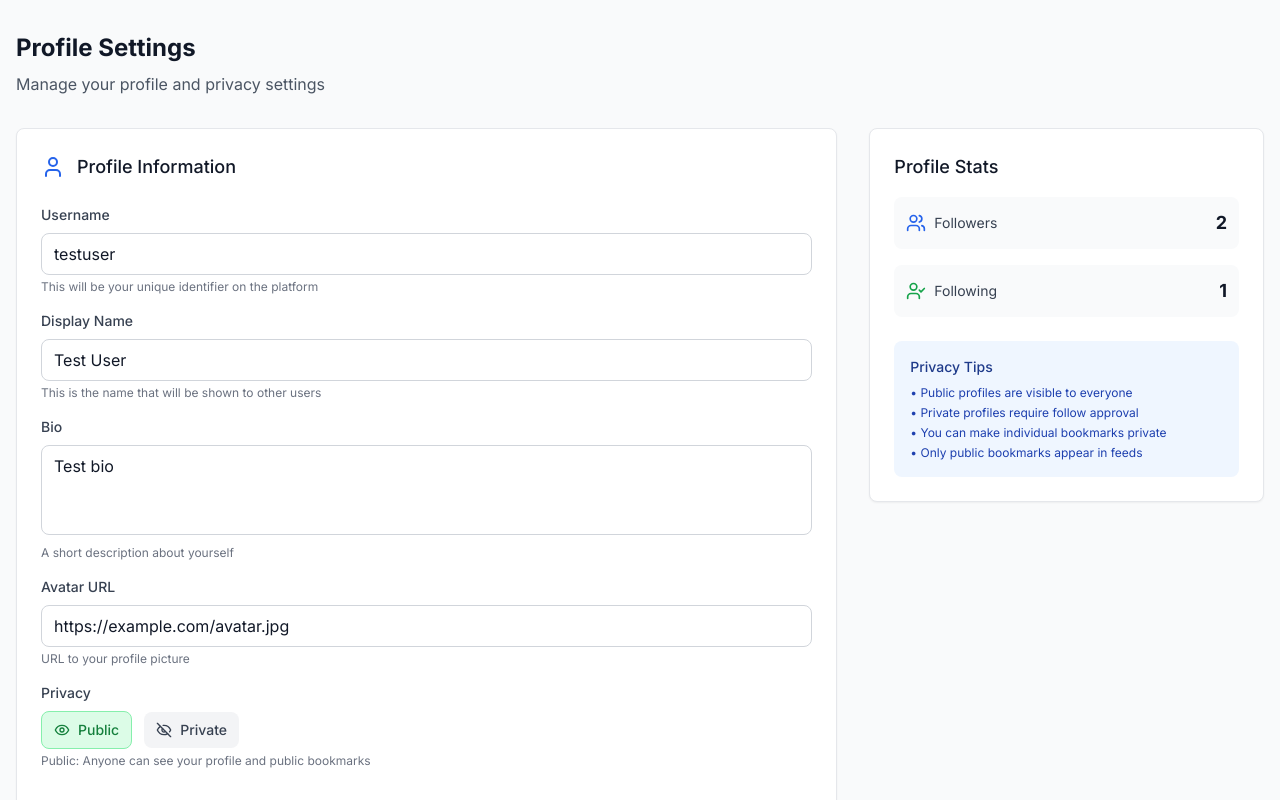
Test: Profile Page › Privacy Settings › should switch to private when private button is clicked
Expected: the button "Public" is shown, [41, 711, 132, 749]
Click the button "Private".
click(192, 730)  # box [144, 712, 239, 748]
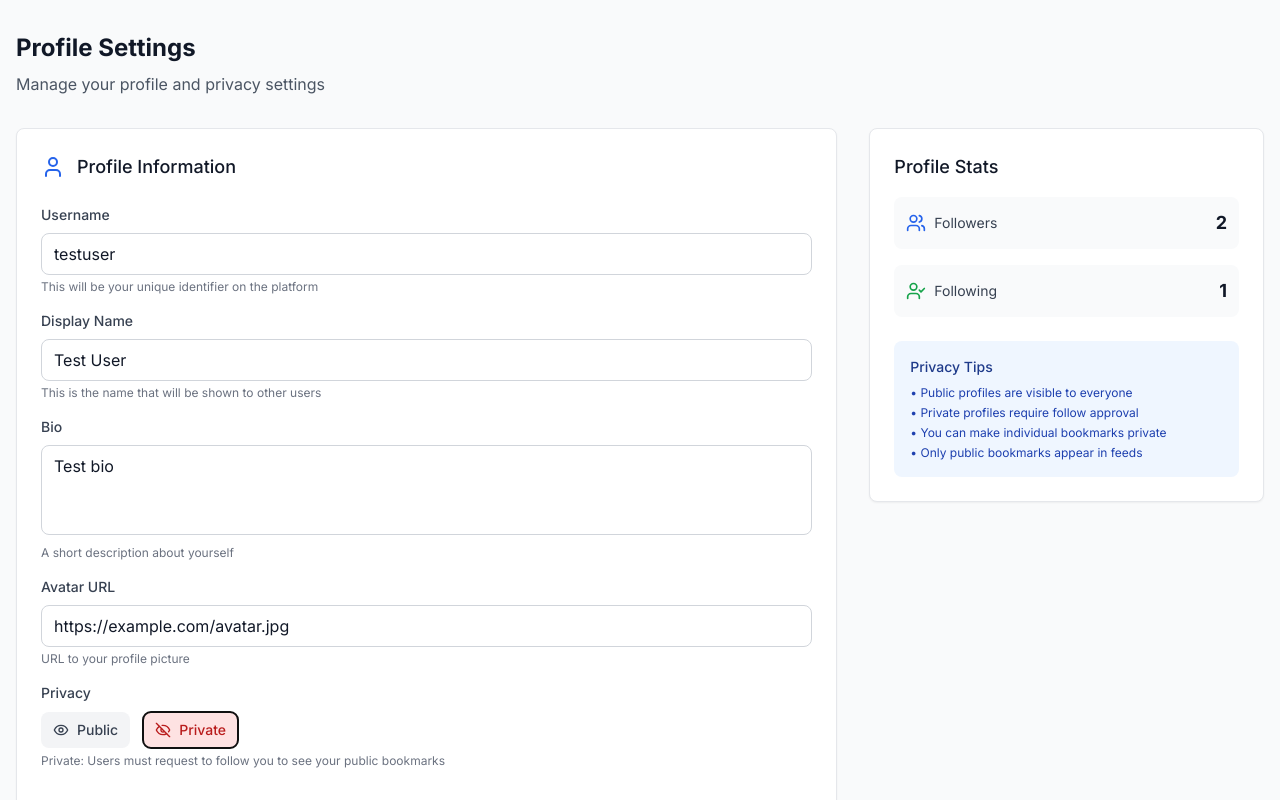
Expected: the text "Private: Users must request to follow you to see your public bookmarks" is shown, [41, 753, 445, 768]
